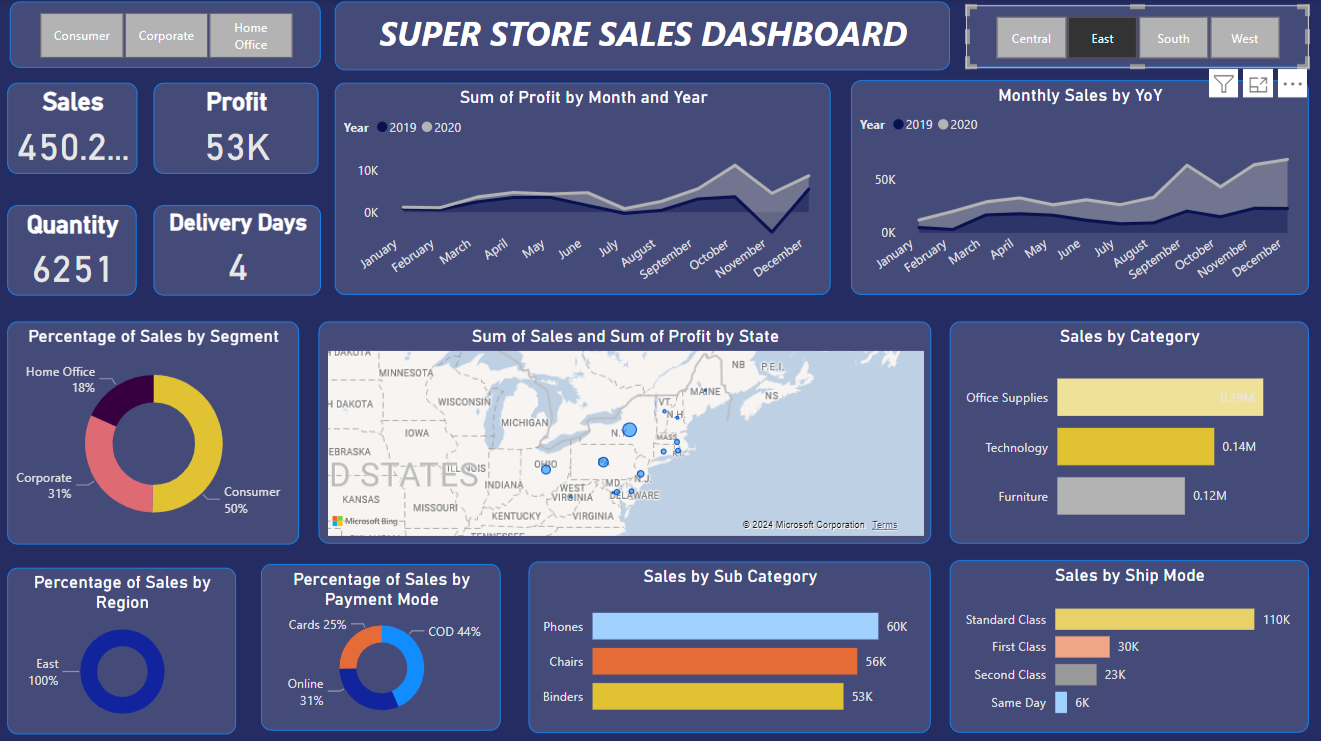

What the dashboard file says about the page in this screenshot:
{"tool":"powerbi","page":{"name":"Page 1","canvas":[1280,720],"ordinal":0},"visuals":[{"type":"clusteredBarChart","title":"Sales by Category","fields":{"Category":["SuperStore_Sales_Dataset.Category"],"Y":["Sum(SuperStore_Sales_Dataset.Sales)"]},"box":[920.2,311.2,346.1,214.7],"z":0},{"type":"clusteredBarChart","title":"Sales by Sub Category","fields":{"Category":["SuperStore_Sales_Dataset.Sub-Category"],"Y":["Sum(SuperStore_Sales_Dataset.Sales)"]},"box":[513.8,542.7,388.3,165.2],"z":1000},{"type":"clusteredBarChart","title":"Sales by Ship Mode","fields":{"Category":["SuperStore_Sales_Dataset.Ship Mode"],"Y":["Sum(SuperStore_Sales_Dataset.Sales)"]},"box":[920,541.2,346.2,166.2],"z":2000},{"type":"stackedAreaChart","title":"Monthly Sales by YoY","fields":{"Y":["Sum(SuperStore_Sales_Dataset.Sales)"],"Category":["SuperStore_Sales_Dataset.Order Date.Variation.Date Hierarchy.Month","SuperStore_Sales_Dataset.Order Date.Variation.Date Hierarchy.Day"],"Series":["SuperStore_Sales_Dataset.Order Date.Variation.Date Hierarchy.Year"]},"box":[825,78.8,441.2,207.5],"z":3000},{"type":"stackedAreaChart","fields":{"Category":["SuperStore_Sales_Dataset.Order Date.Variation.Date Hierarchy.Month","SuperStore_Sales_Dataset.Order Date.Variation.Date Hierarchy.Day"],"Series":["SuperStore_Sales_Dataset.Order Date.Variation.Date Hierarchy.Year"],"Y":["Sum(SuperStore_Sales_Dataset.Profit)"]},"box":[326.2,81.2,478.8,205],"z":4000},{"type":"map","fields":{"Category":["SuperStore_Sales_Dataset.State"],"Size":["Sum(SuperStore_Sales_Dataset.Sales)"]},"box":[311.2,311.2,591,214.7],"z":5000},{"type":"donutChart","title":"Percentage of Sales by Segment","fields":{"Category":["SuperStore_Sales_Dataset.Segment"],"Y":["Sum(SuperStore_Sales_Dataset.Sales)"]},"box":[11.2,311.2,281.2,215],"z":6000},{"type":"donutChart","title":"Percentage of Sales by Payment Mode","fields":{"Category":["SuperStore_Sales_Dataset.Payment Mode"],"Y":["Sum(SuperStore_Sales_Dataset.Sales)"]},"box":[255.7,545.1,231.6,160.4],"z":7000},{"type":"slicer","fields":{"Values":["SuperStore_Sales_Dataset.Region"]},"box":[936.2,6.2,330,60],"z":8000},{"type":"textbox","box":[326.2,2.5,593.8,66.2],"z":9000},{"type":"card","title":"Sales","fields":{"Values":["Sum(SuperStore_Sales_Dataset.Sales)"]},"box":[11.2,81.2,125,87.5],"z":10000},{"type":"card","title":"Quantity","fields":{"Values":["Sum(SuperStore_Sales_Dataset.Quantity)"]},"box":[11.2,198.8,125,87.5],"z":11000},{"type":"card","title":"Profit","fields":{"Values":["Sum(SuperStore_Sales_Dataset.Profit)"]},"box":[161.2,81.2,152.5,87.5],"z":12000},{"type":"card","title":"Delivery Days","fields":{"Values":["Avg(SuperStore_Sales_Dataset.AvgDelievery)"]},"box":[162.5,198.8,151.2,87.5],"z":13000},{"type":"donutChart","title":"Percentage of Sales by Region","fields":{"Category":["SuperStore_Sales_Dataset.Region"],"Y":["Sum(SuperStore_Sales_Dataset.Sales)"]},"box":[10.9,548.7,220.7,160.4],"z":14000},{"type":"slicer","fields":{"Values":["SuperStore_Sales_Dataset.Segment"]},"box":[11.2,2.5,300,63.8],"z":15000}]}

Visuals, with their boxes in screenshot pixels (x1, y1, x2, y2), scaled from the page's 1280x720 canvas onto the 1321x741 screenshot:
"Sales by Category" clusteredBarChart: rect(950, 320, 1307, 541)
"Sales by Sub Category" clusteredBarChart: rect(530, 559, 931, 729)
"Sales by Ship Mode" clusteredBarChart: rect(949, 557, 1307, 728)
"Monthly Sales by YoY" stackedAreaChart: rect(851, 81, 1307, 295)
stackedAreaChart - SuperStore_Sales_Dataset.Order Date.Variation.Date Hierarchy.Month x SuperStore_Sales_Dataset.Order Date.Variation.Date Hierarchy.Day: rect(337, 84, 831, 295)
map - SuperStore_Sales_Dataset.State x Sum(SuperStore_Sales_Dataset.Sales): rect(321, 320, 931, 541)
"Percentage of Sales by Segment" donutChart: rect(12, 320, 302, 542)
"Percentage of Sales by Payment Mode" donutChart: rect(264, 561, 503, 726)
slicer - SuperStore_Sales_Dataset.Region: rect(966, 6, 1307, 68)
textbox: rect(337, 3, 949, 71)
"Sales" card: rect(12, 84, 141, 174)
"Quantity" card: rect(12, 205, 141, 295)
"Profit" card: rect(166, 84, 324, 174)
"Delivery Days" card: rect(168, 205, 324, 295)
"Percentage of Sales by Region" donutChart: rect(11, 565, 239, 730)
slicer - SuperStore_Sales_Dataset.Segment: rect(12, 3, 321, 68)
